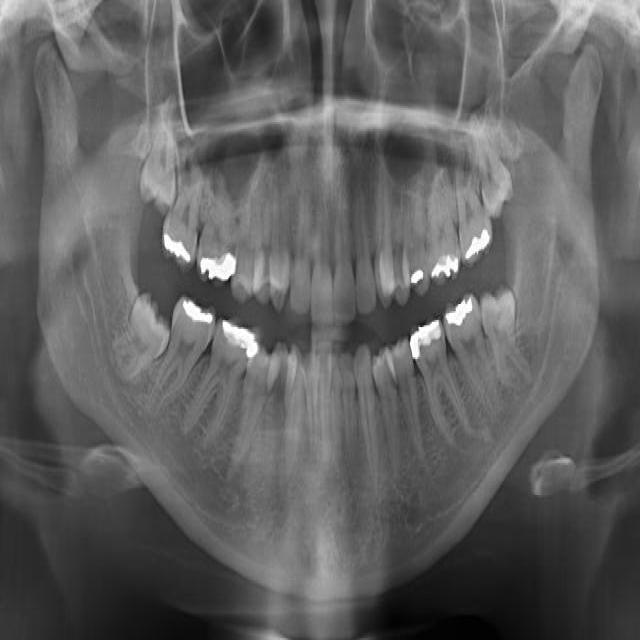dolgu: (215, 311, 261, 376), (194, 230, 243, 291), (457, 190, 493, 266), (174, 289, 219, 349), (157, 211, 198, 270), (408, 310, 446, 357), (432, 236, 464, 290), (444, 296, 479, 335), (409, 248, 433, 298)
